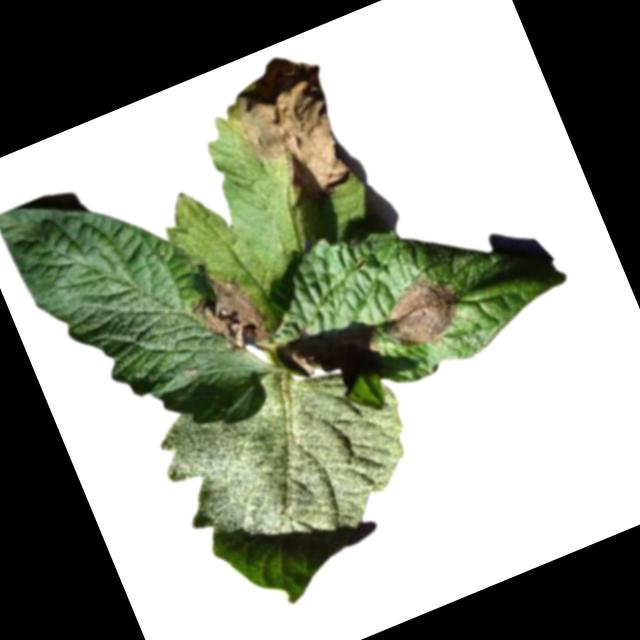Late_blight: (207, 42, 367, 221), (369, 263, 475, 359), (181, 263, 275, 364), (292, 344, 322, 381), (363, 329, 384, 353)
